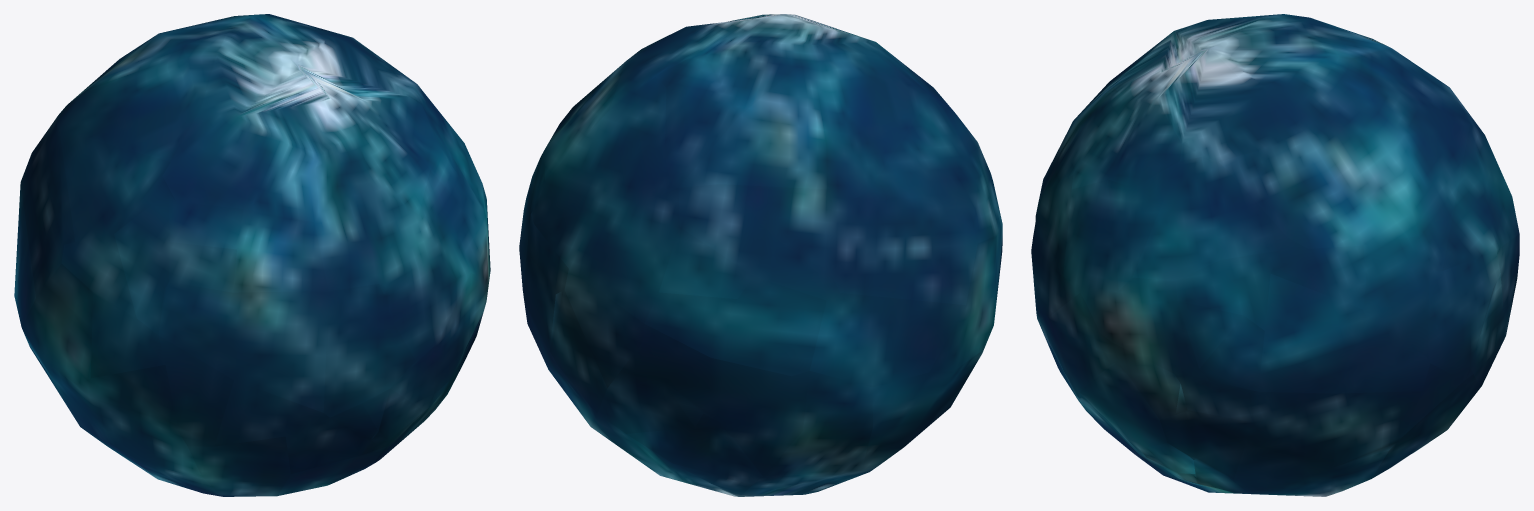
Rendered from planet_6-far.glb.
3 views of the same model, side by side, from view 1: azimuth 30°, elevation 25°; view 2: azimuth 150°, elevation 25°; view 3: azimuth 270°, elevation 25° (orthographic).
Visible parts, largest first — view 1: Mesh_0.001; view 2: Mesh_0.001; view 3: Mesh_0.001.
Boxes of the visible parts, left/top/right/bottom form: Mesh_0.001: left=14, top=14, right=490, bottom=496; Mesh_0.001: left=519, top=14, right=1002, bottom=496; Mesh_0.001: left=1031, top=14, right=1519, bottom=496.
Bounding box in the file's own units: 1.89 × 1.9 × 1.89.
1 material, 1 textured.
